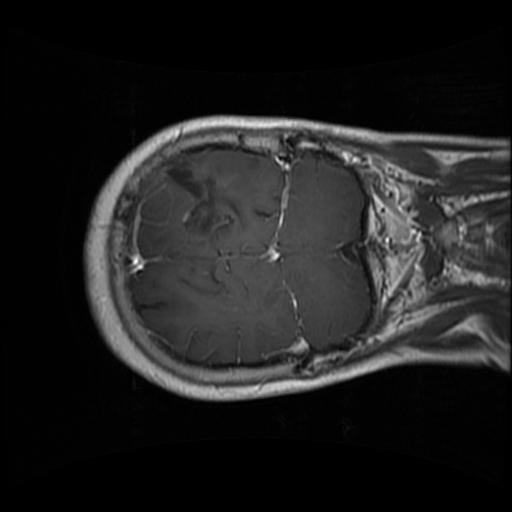glioma: (164, 166, 235, 236)
